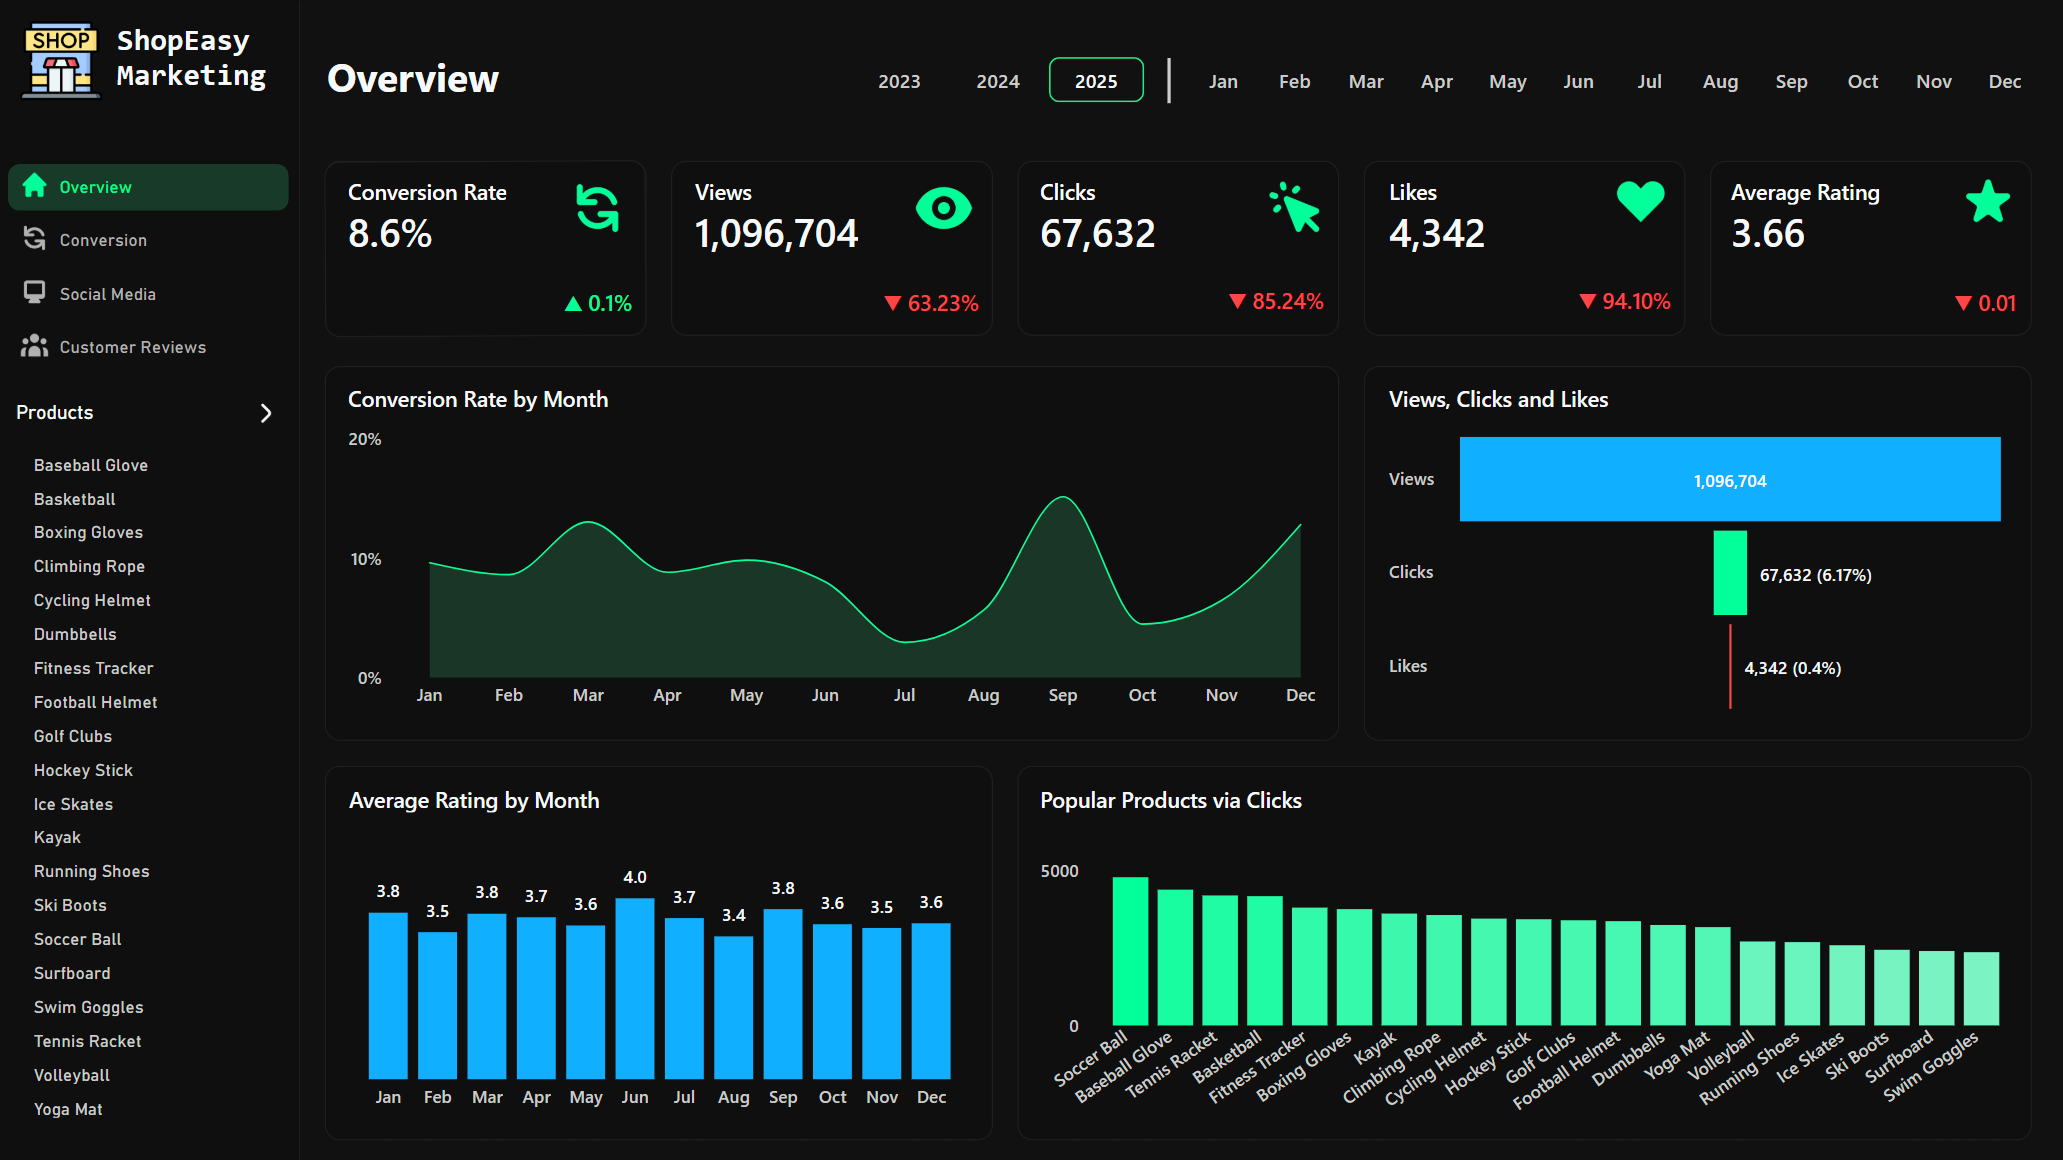

What the dashboard file says about the page in this screenshot:
{"tool":"powerbi","page":{"name":"Overview","canvas":[1280,720],"ordinal":0},"visuals":[{"type":"cardVisual","fields":{"Data":["_Calculations.Views"]},"box":[426.3,95.4,127,78.1],"z":0},{"type":"lineChart","fields":{"Y":["_Calculations.Conversion Rate"],"Category":["Calendar.MonthNameShort"]},"box":[211.6,238.4,619.9,210.9],"z":1000},{"type":"clusteredColumnChart","title":"Popular Products via Clicks","fields":{"Category":["DIM_products.ProductName"],"Y":["Sum(FACT_engagement_data.Clicks)"]},"box":[640.4,487.3,615.7,213],"z":2000},{"type":"funnel","fields":{"Y":["_Calculations.Views","_Calculations.Clicks","_Calculations.Likes"]},"box":[856.3,238.6,394.1,212.5],"z":3000},{"type":"columnChart","fields":{"Category":["Calendar.MonthNameShort"],"Y":["_Calculations.Rating (Average)"]},"box":[211.9,487,395.3,211.3],"z":4000},{"type":"cardVisual","fields":{"Data":["_Calculations.Conversion Rate"]},"box":[211.3,95.4,127,78.1],"z":5000},{"type":"cardVisual","fields":{"Data":["_Calculations.Clicks"]},"box":[640,95.7,127.4,78.6],"z":6000},{"type":"cardVisual","fields":{"Data":["_Calculations.Likes"]},"box":[856.1,95.7,126.7,78.6],"z":7000},{"type":"cardVisual","fields":{"Data":["_Calculations.Rating (Average)"]},"box":[1068.4,95.7,127.4,78.6],"z":8000},{"type":"cardVisual","fields":{"Data":["_Calculations.Diff Last Year Views"]},"box":[485,159.3,127,48],"z":9000},{"type":"cardVisual","fields":{"Data":["_Calculations.Diff Last Year Clicks"]},"box":[698.9,159.4,127.6,48],"z":10000},{"type":"cardVisual","fields":{"Data":["_Calculations.Diff Last Year Likes"]},"box":[914,159.4,127.6,48],"z":11000},{"type":"cardVisual","fields":{"Data":["_Calculations.Diff Last Year Rating"]},"box":[1129.1,159.4,126.9,48.7],"z":12000},{"type":"advancedSlicerVisual","fields":{"Values":["DIM_products.ProductName"]},"box":[15.2,273.6,157.5,439],"z":13000},{"type":"textbox","box":[198.4,26.4,299.5,47.6],"z":14000},{"type":"textbox","box":[5.7,241.3,174.3,31.7],"z":15000},{"type":"pageNavigator","box":[5.6,102,174.2,131],"z":16000},{"type":"cardVisual","fields":{"Data":["_Calculations.Diff Last Year Conversion"]},"box":[299.4,159.3,98.1,48],"z":17000},{"type":"image","box":[150.2,241.6,29.8,29.8],"z":19000},{"type":"advancedSlicerVisual","fields":{"Values":["Calendar.Year"]},"box":[523.8,31.1,193.5,38.9],"z":20000},{"type":"advancedSlicerVisual","fields":{"Values":["Calendar.MonthNameShort"]},"box":[732.8,31.1,542.5,38.7],"z":21000},{"type":"shape","box":[694.7,36.7,60.8,28.3],"z":22000},{"type":"image","box":[7.8,7.1,60.7,62.8],"z":23000},{"type":"textbox","box":[68.1,9.5,112,57.8],"z":24000}]}

Visuals, with their boxes on the page's 1280x720 design canvas (x1, y1, x2, y2). These are canvas units, not pixel positions in the 2063x1160 screenshot, which may show the page scaled, cropped or inside an application window:
cardVisual - _Calculations.Views: (left=426, top=95, right=553, bottom=174)
lineChart - _Calculations.Conversion Rate x Calendar.MonthNameShort: (left=212, top=238, right=832, bottom=449)
"Popular Products via Clicks" clusteredColumnChart: (left=640, top=487, right=1256, bottom=700)
funnel - _Calculations.Views x _Calculations.Clicks: (left=856, top=239, right=1250, bottom=451)
columnChart - Calendar.MonthNameShort x _Calculations.Rating (Average): (left=212, top=487, right=607, bottom=698)
cardVisual - _Calculations.Conversion Rate: (left=211, top=95, right=338, bottom=174)
cardVisual - _Calculations.Clicks: (left=640, top=96, right=767, bottom=174)
cardVisual - _Calculations.Likes: (left=856, top=96, right=983, bottom=174)
cardVisual - _Calculations.Rating (Average): (left=1068, top=96, right=1196, bottom=174)
cardVisual - _Calculations.Diff Last Year Views: (left=485, top=159, right=612, bottom=207)
cardVisual - _Calculations.Diff Last Year Clicks: (left=699, top=159, right=826, bottom=207)
cardVisual - _Calculations.Diff Last Year Likes: (left=914, top=159, right=1042, bottom=207)
cardVisual - _Calculations.Diff Last Year Rating: (left=1129, top=159, right=1256, bottom=208)
advancedSlicerVisual - DIM_products.ProductName: (left=15, top=274, right=173, bottom=713)
textbox: (left=198, top=26, right=498, bottom=74)
textbox: (left=6, top=241, right=180, bottom=273)
pageNavigator: (left=6, top=102, right=180, bottom=233)
cardVisual - _Calculations.Diff Last Year Conversion: (left=299, top=159, right=398, bottom=207)
image: (left=150, top=242, right=180, bottom=271)
advancedSlicerVisual - Calendar.Year: (left=524, top=31, right=717, bottom=70)
advancedSlicerVisual - Calendar.MonthNameShort: (left=733, top=31, right=1275, bottom=70)
shape: (left=695, top=37, right=756, bottom=65)
image: (left=8, top=7, right=68, bottom=70)
textbox: (left=68, top=10, right=180, bottom=67)
